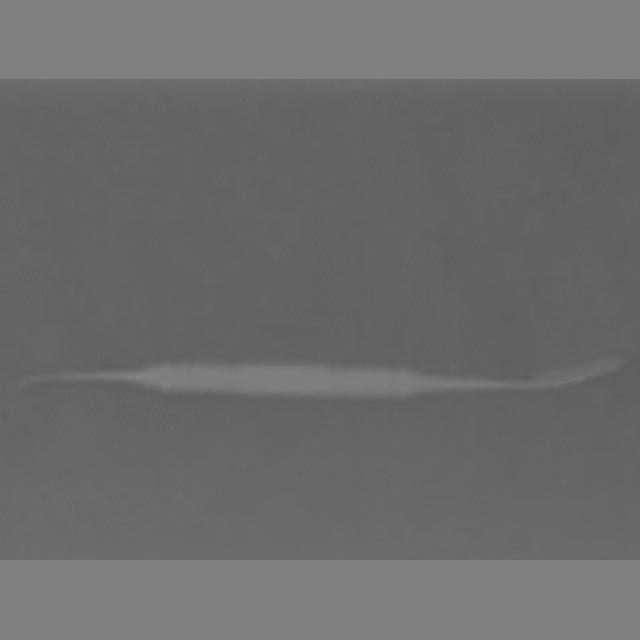elevador: (23, 360, 622, 404)
